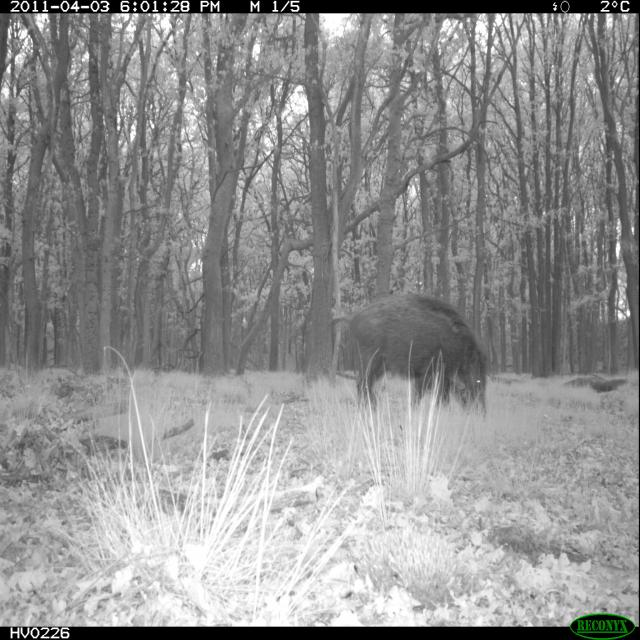boar: (323, 271, 526, 440)
